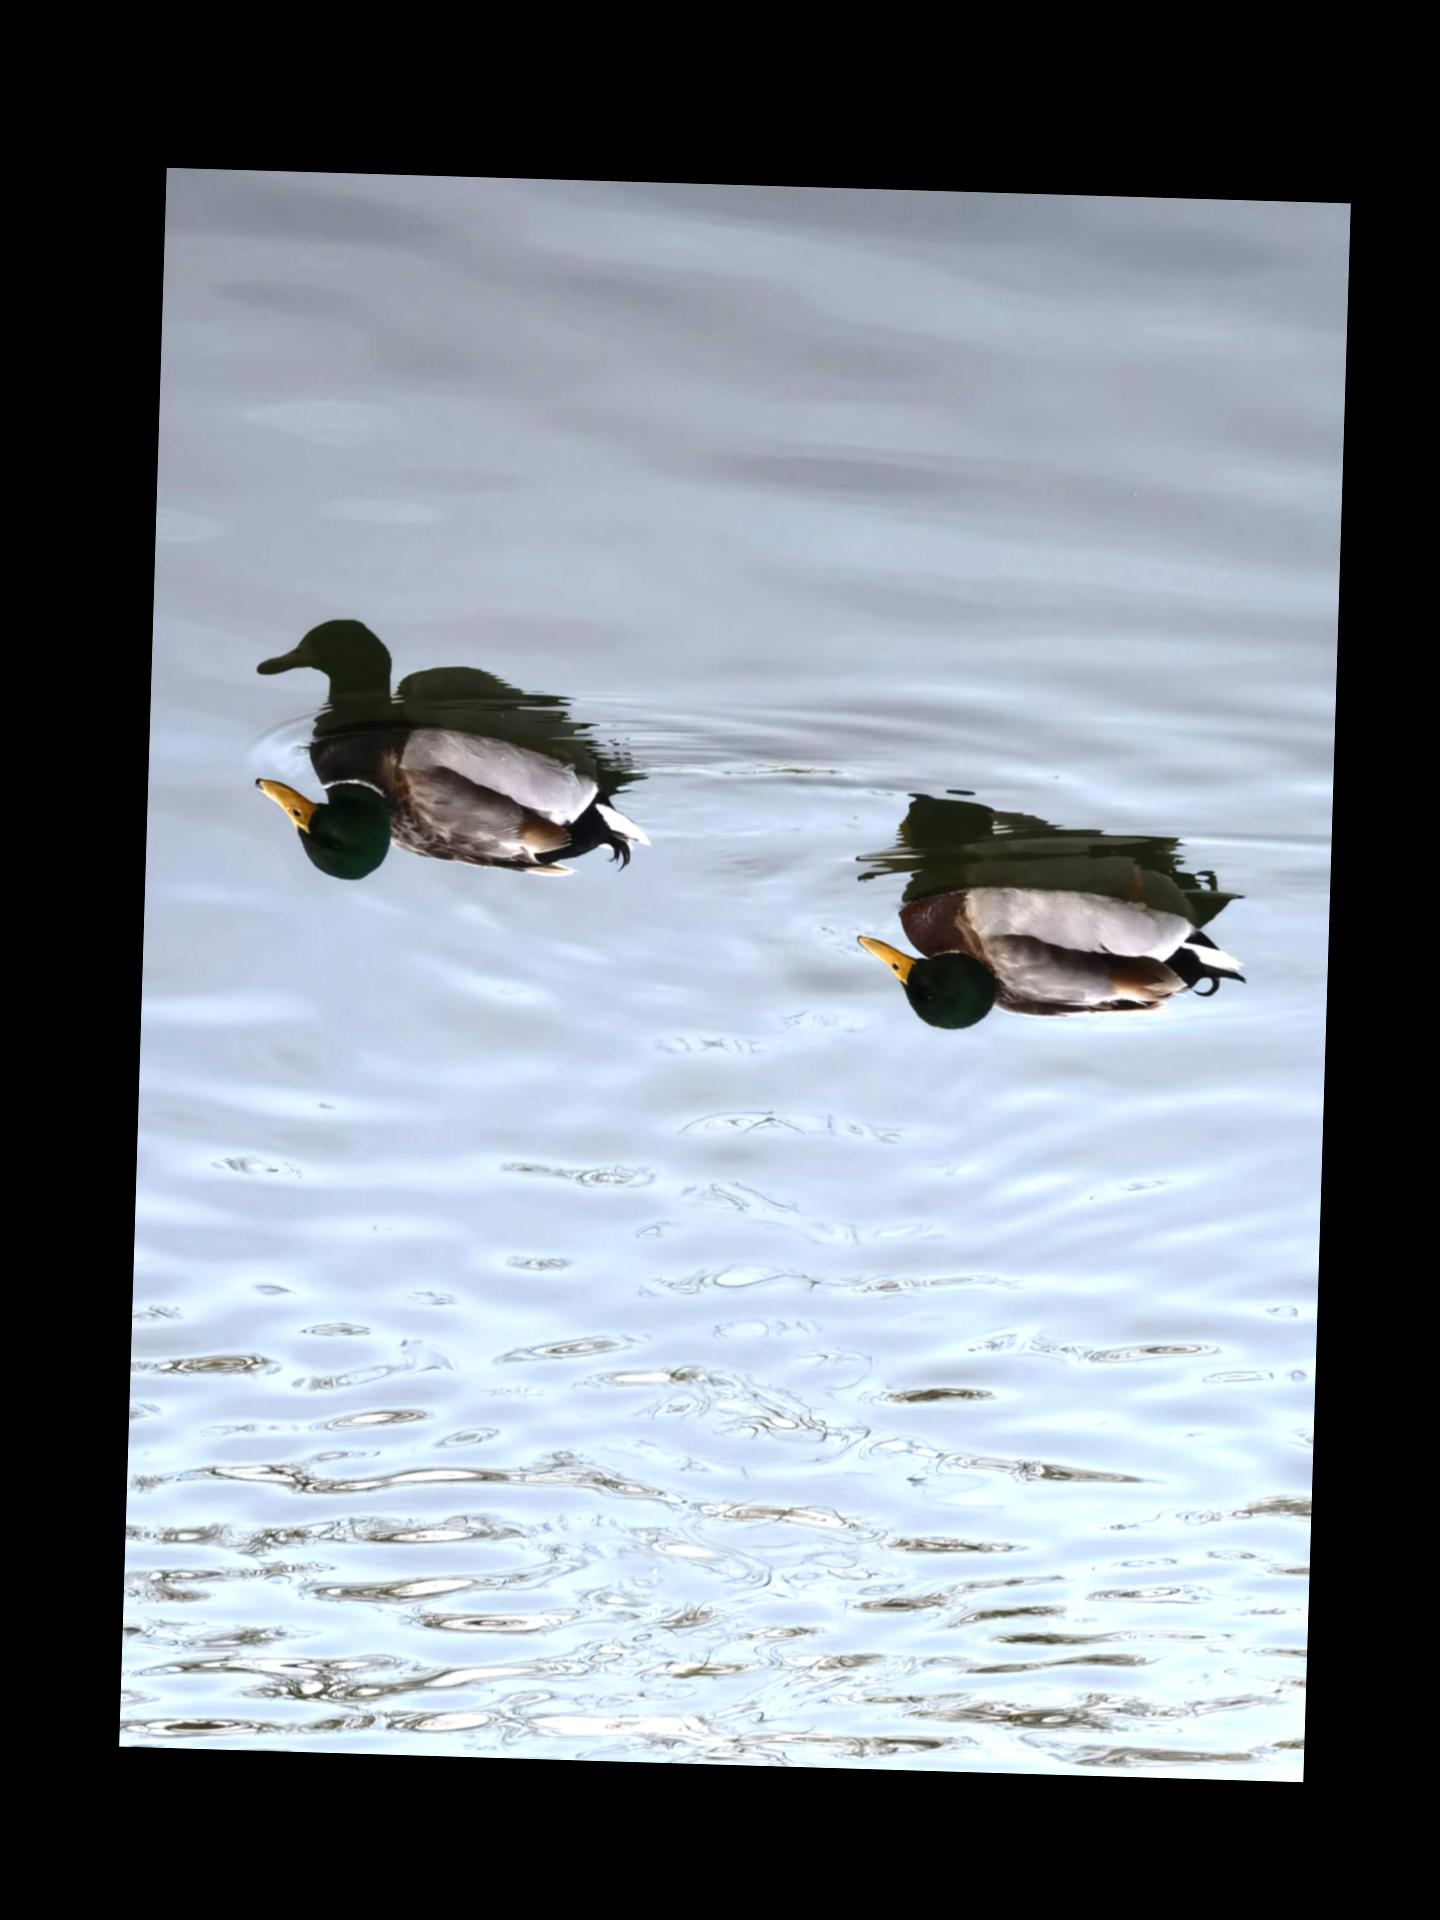duck: (846, 813, 1275, 1063), (234, 712, 684, 916)
